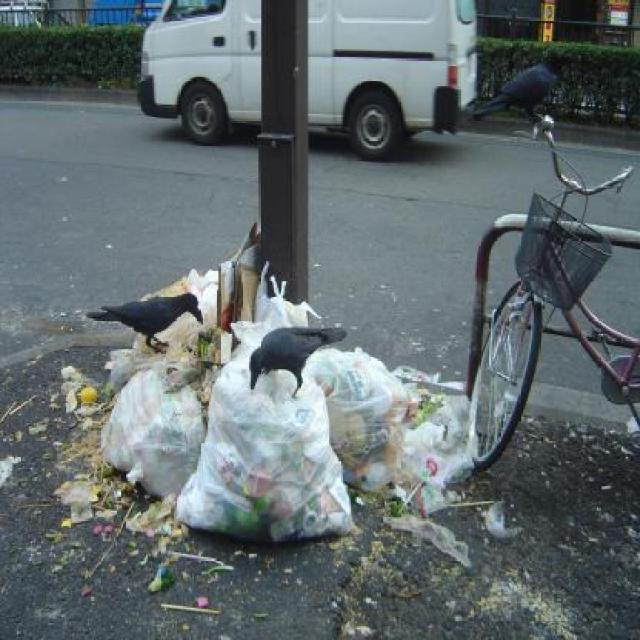garbage: (134, 379, 346, 540), (331, 357, 466, 536), (85, 348, 209, 516), (214, 236, 316, 326), (156, 269, 246, 290)
